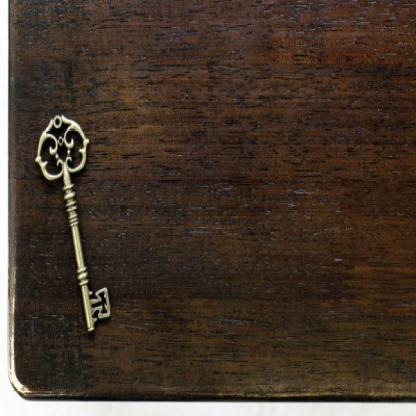keys: (34, 113, 112, 332)
